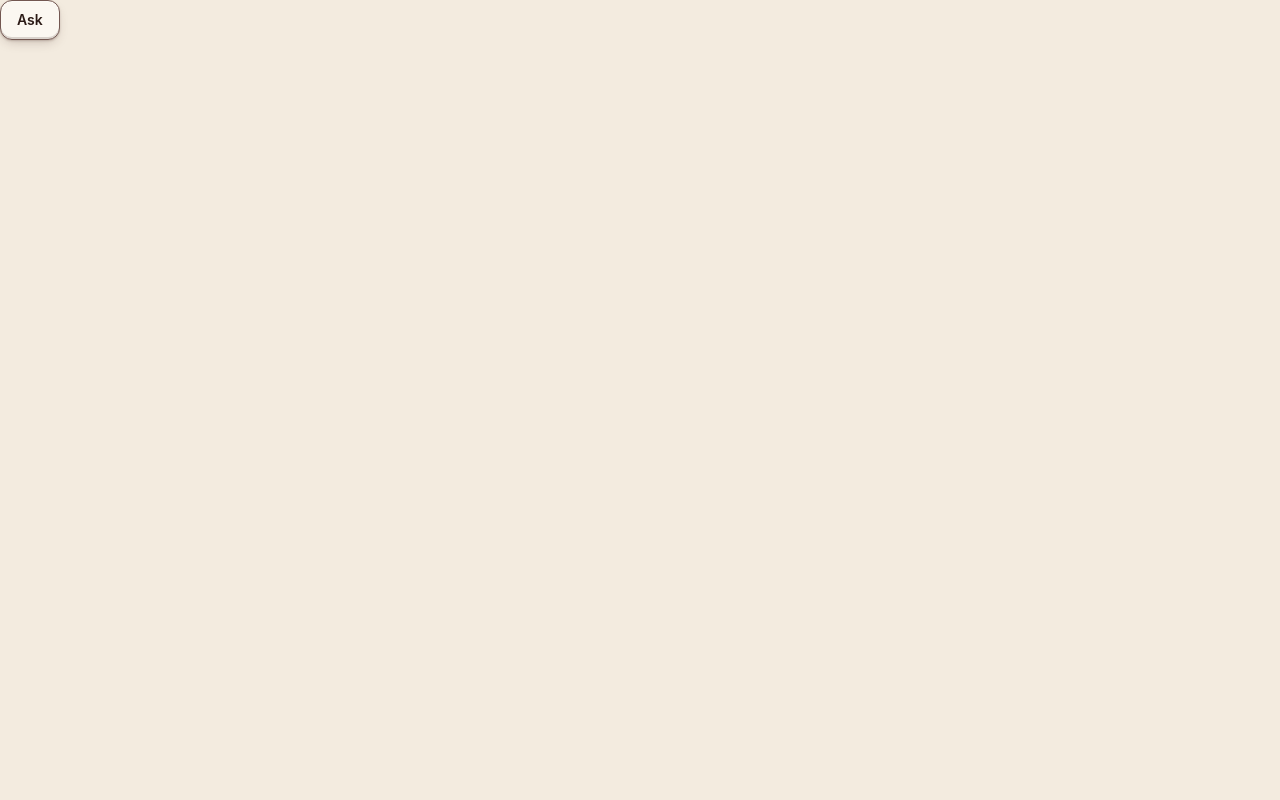
Test: R3.20 Ask dialog › R3.20 an unvalidated answer shows the warning in text, not by color alone
Click the button with test id "ask-available". click: {"x": 30, "y": 20}
box: top-left (0, 0), bottom-right (60, 40)
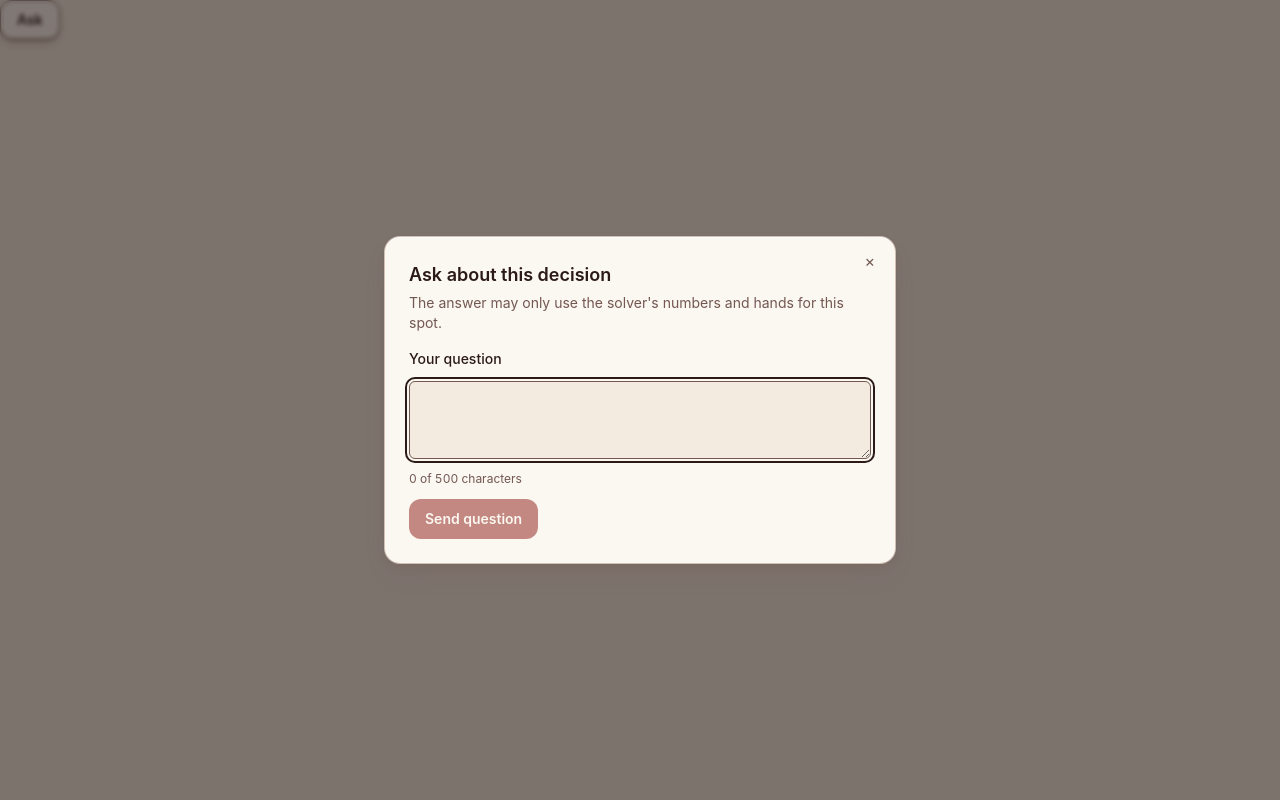
Type "Why is raising better than calling?" into the text box labelled "Your question". click: {"x": 640, "y": 420}
box: top-left (409, 381), bottom-right (871, 459)
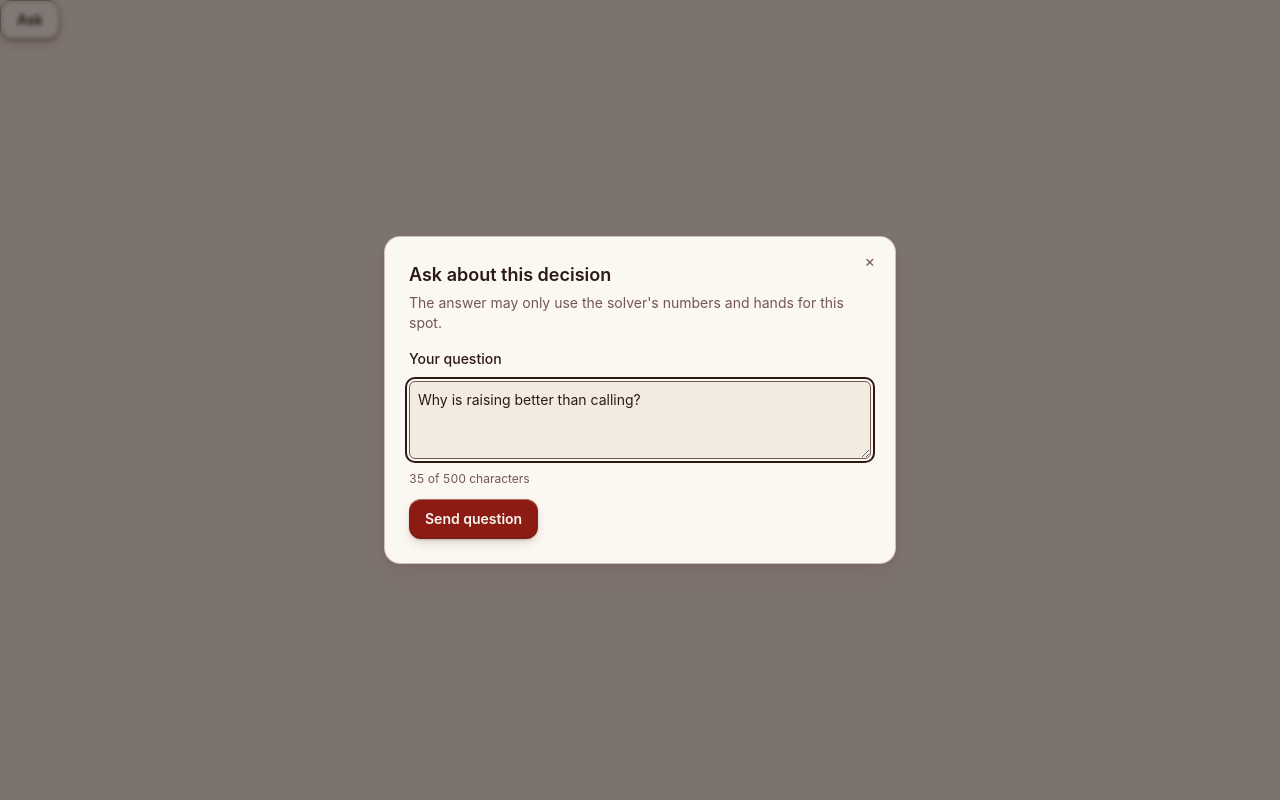
Click the button "Send question". click: {"x": 474, "y": 519}
box: top-left (409, 499), bottom-right (538, 539)
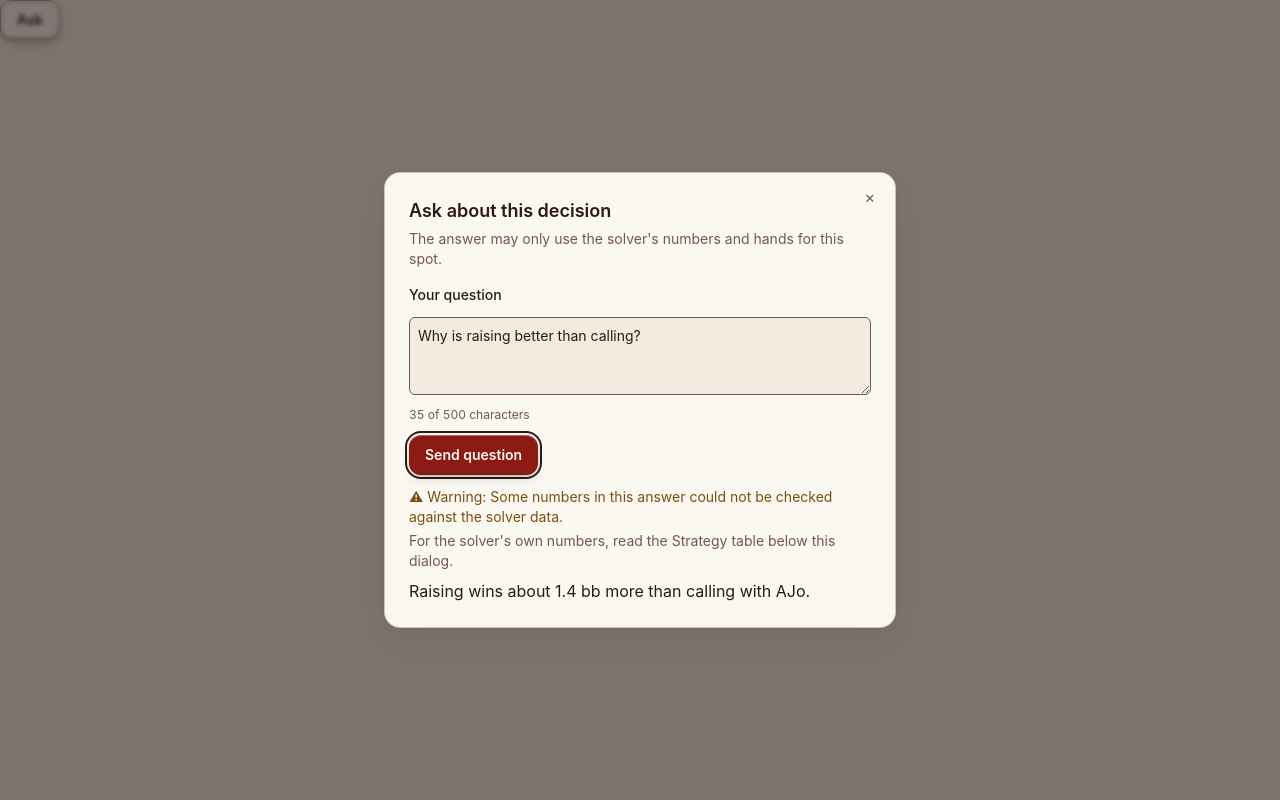
Now the text with test id "ask-answer-text" reads "Raising wins about 1.4 bb more than calling with AJo.", box top-left (409, 581), bottom-right (810, 601)
